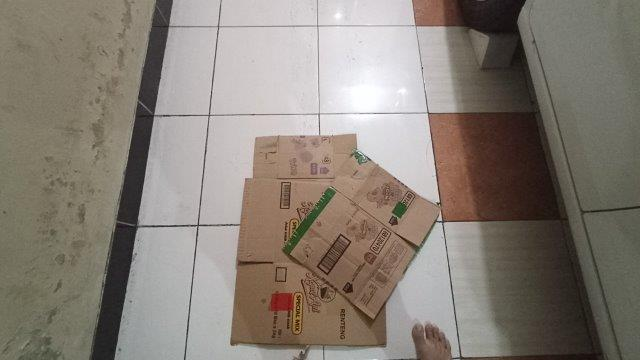kardus: (232, 135, 439, 345)
